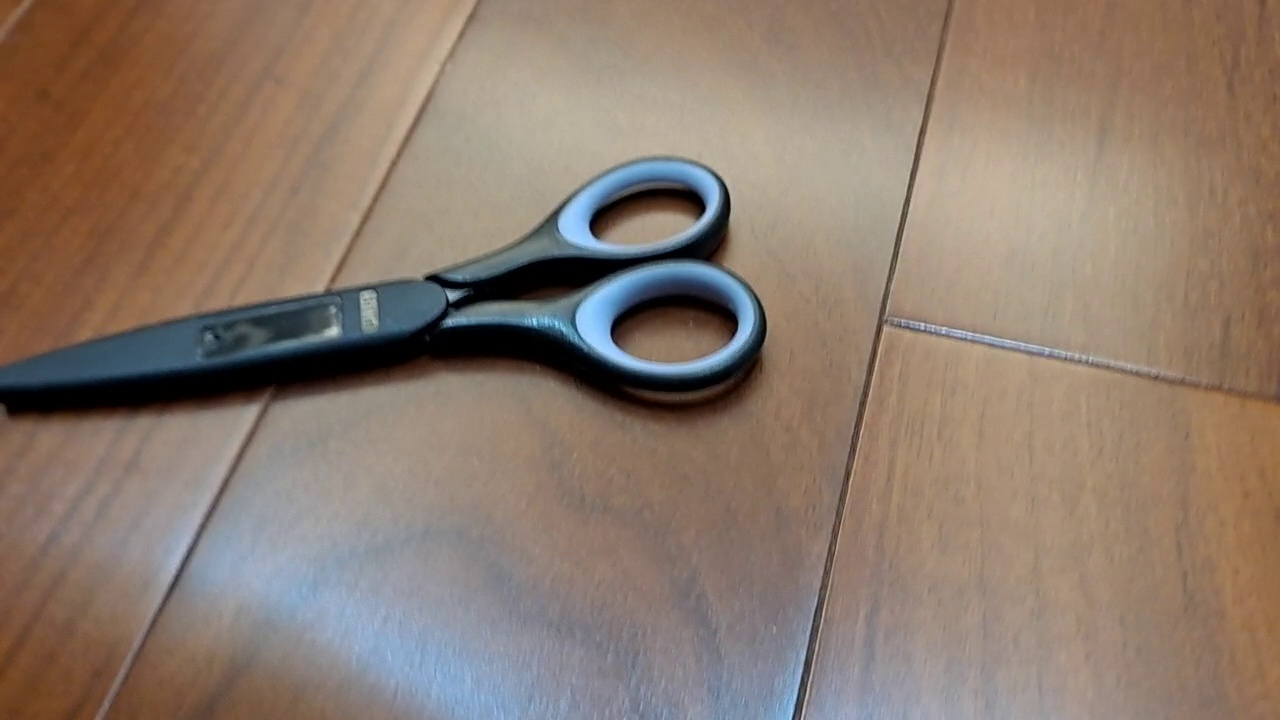scissors: (1, 153, 768, 417)
